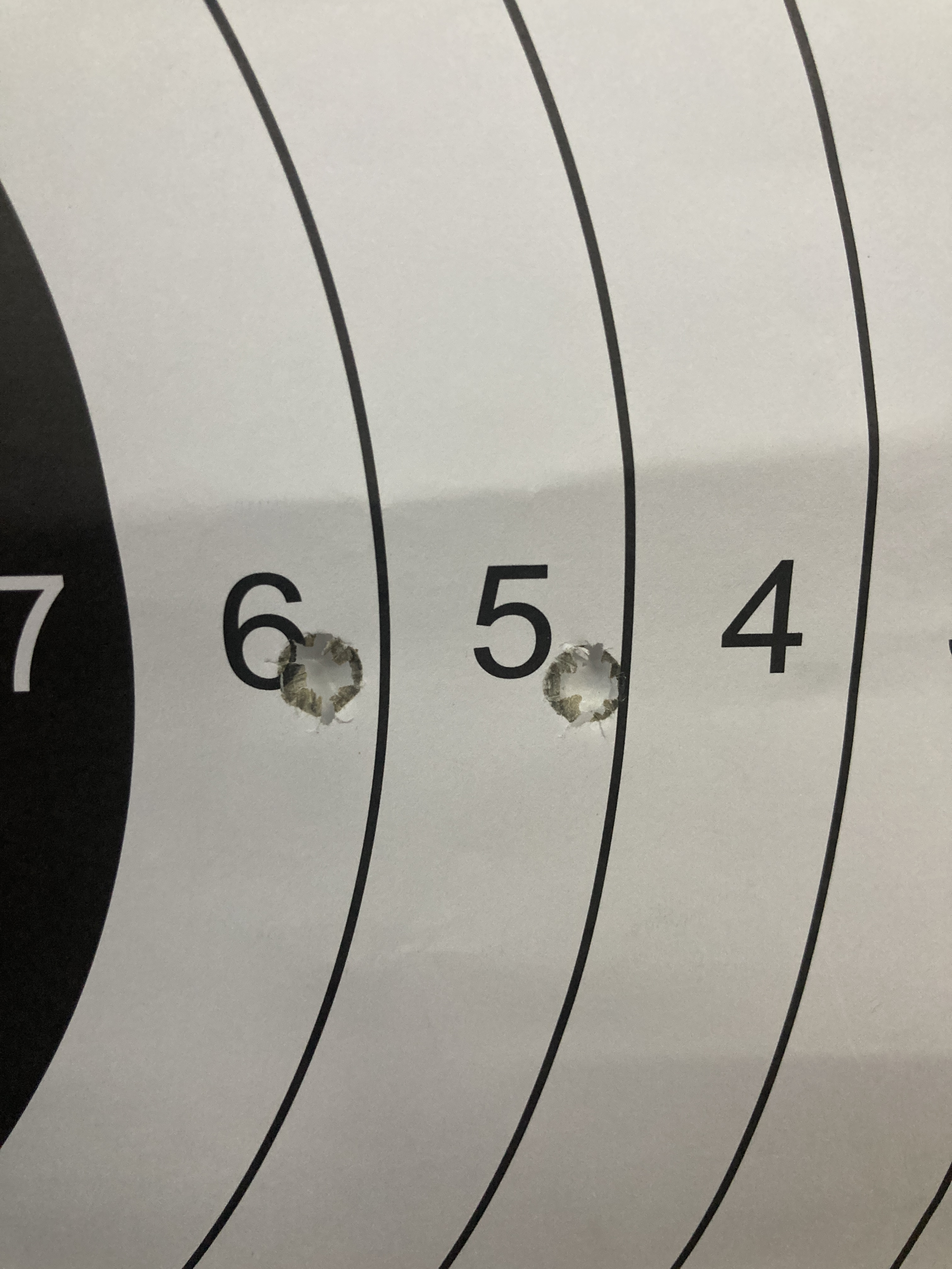hole: (523, 611, 645, 736), (264, 611, 390, 699)
